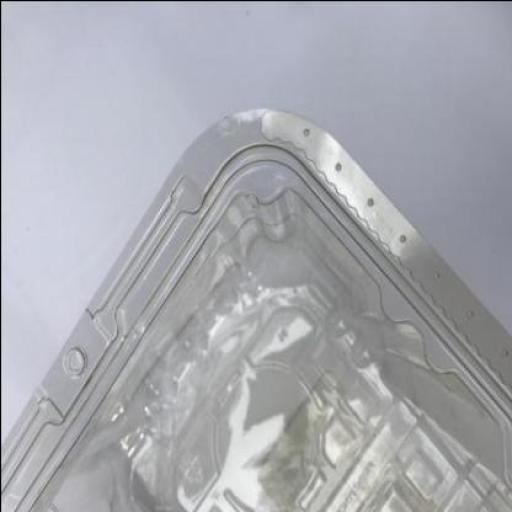plastic: (1, 103, 511, 511)
